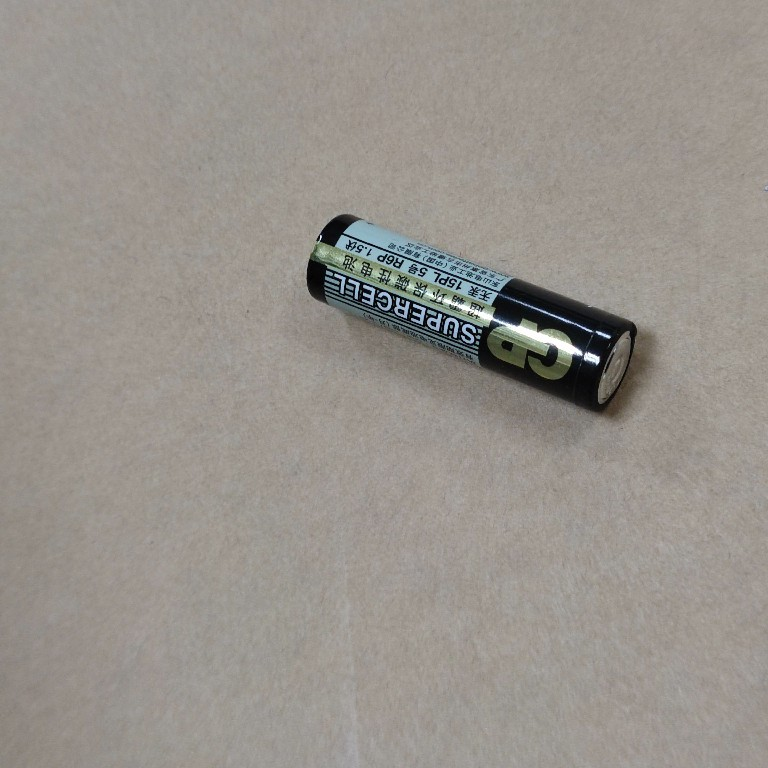charge: (303, 211, 641, 416)
